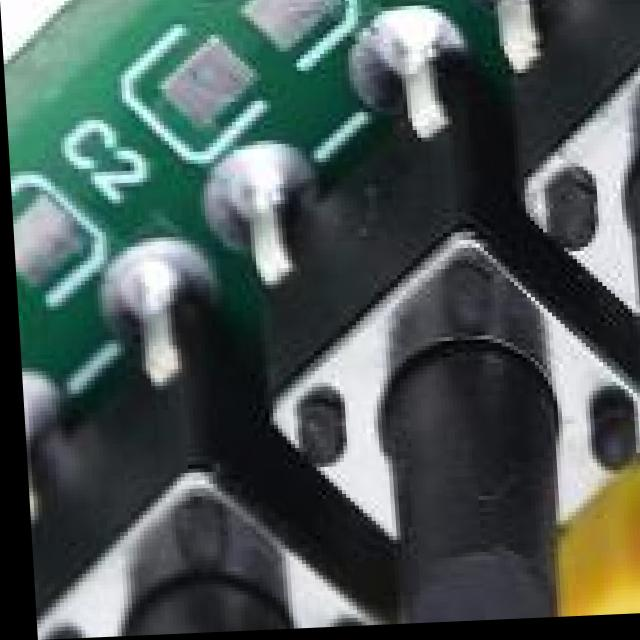connector: (287, 554, 640, 631)
switch: (239, 139, 640, 632), (460, 0, 640, 492), (20, 427, 390, 640)
